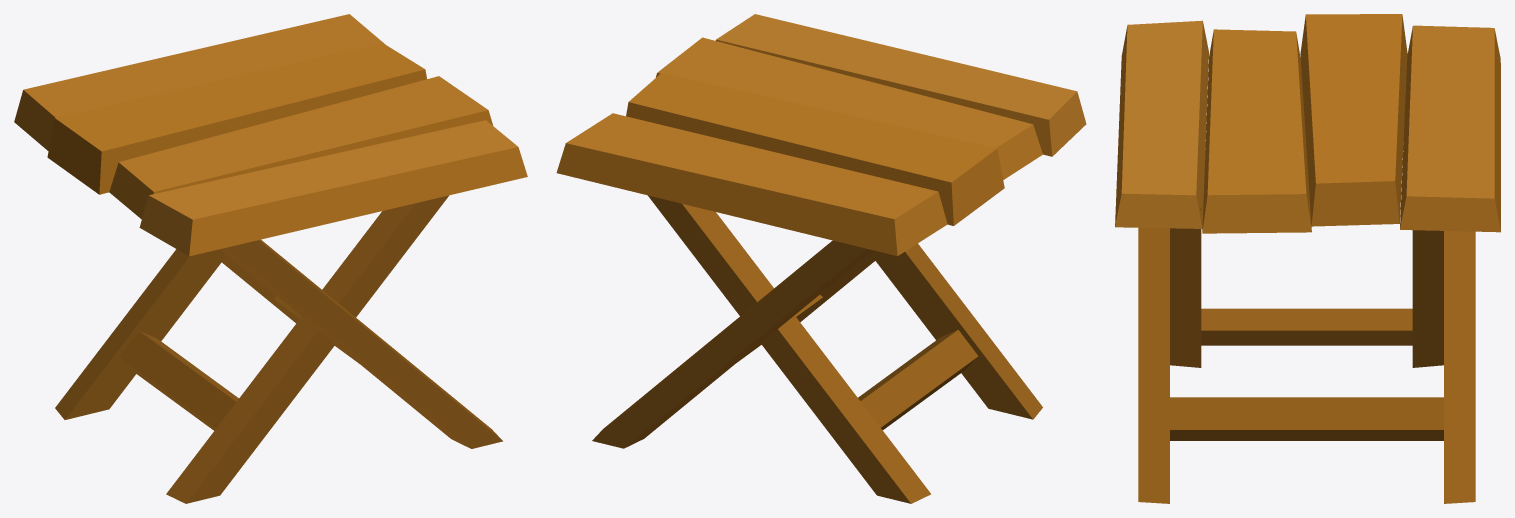
File: SM_Table_A.fbx
3 renders of one model, left to right at view 1: azimuth 30°, elevation 25°; view 2: azimuth 150°, elevation 25°; view 3: azimuth 270°, elevation 25°, orthographic. The views are drawn at different scales.
Visible parts, largest first — view 1: SM_Table_A; view 2: SM_Table_A; view 3: SM_Table_A.
Part boxes in pixels (x1,y1,x2,y2): SM_Table_A: (14,14,527,503); SM_Table_A: (556,14,1086,503); SM_Table_A: (1115,14,1500,503).
Size of the model in its own units: 97.59 by 81.18 by 87.75.
